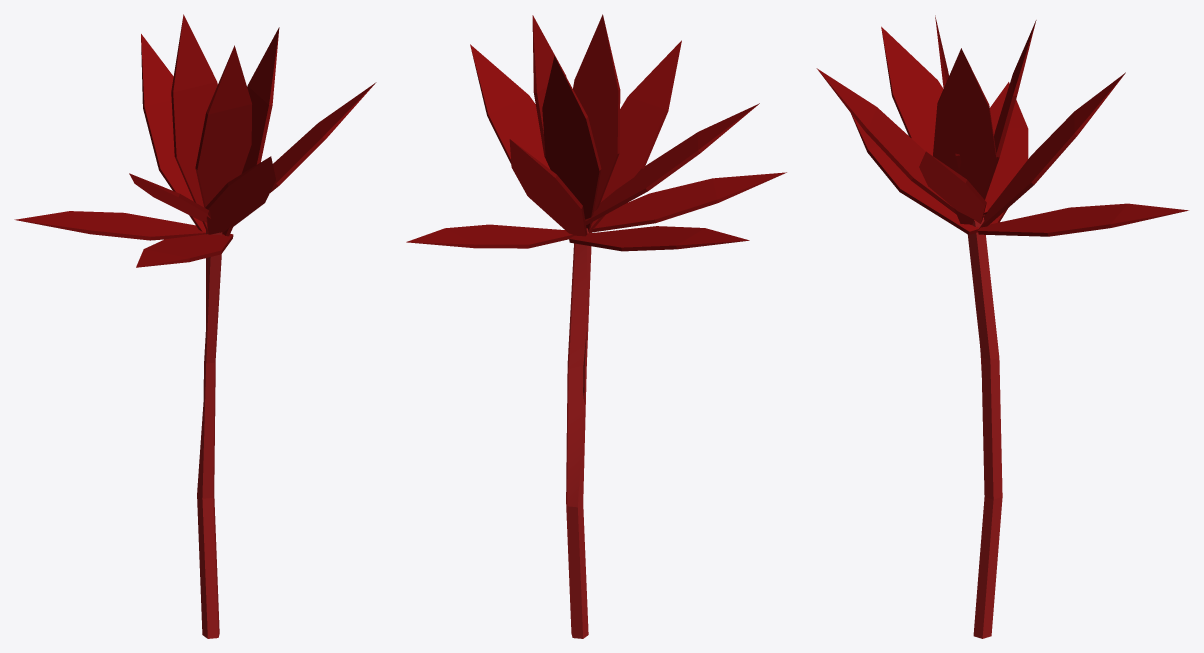
Rendered from Plant_e_01.fbx.
The picture shows the model from 3 angles, left to right: view 1: azimuth 30°, elevation 25°; view 2: azimuth 150°, elevation 25°; view 3: azimuth 270°, elevation 25°; orthographic projection. The views are drawn at different scales.
Parts seen in each view (by area): view 1: Plant_e_01_LOD0; view 2: Plant_e_01_LOD0; view 3: Plant_e_01_LOD0.
Boxes of the visible parts, x1,y1,x2,y2 form: Plant_e_01_LOD0: [14, 14, 376, 638]; Plant_e_01_LOD0: [406, 14, 786, 638]; Plant_e_01_LOD0: [816, 15, 1188, 638].
Size of what is drawn, in the model's own units: 8.72 by 15.71 by 8.56.
